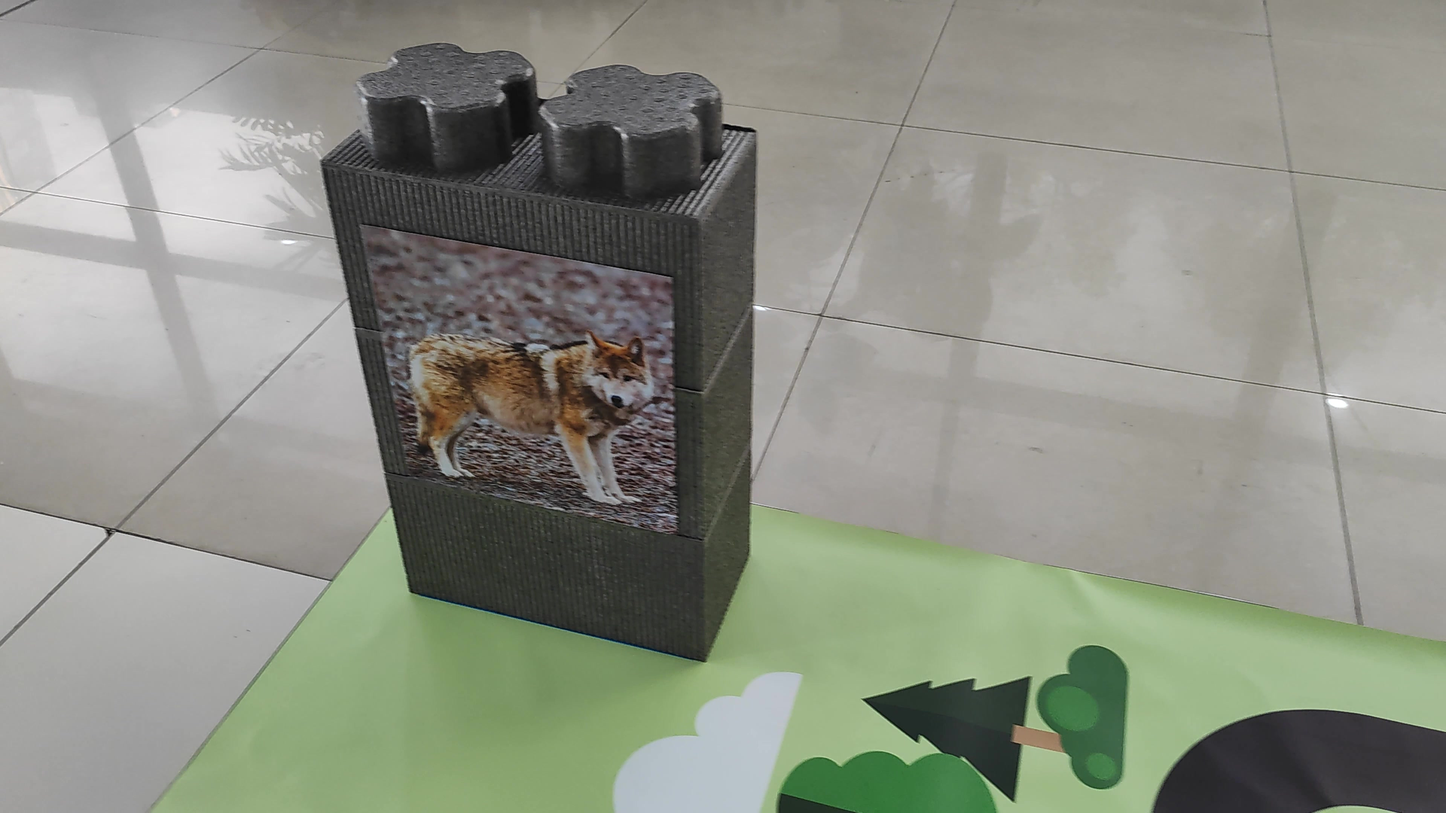wolf: (394, 267, 665, 517)
